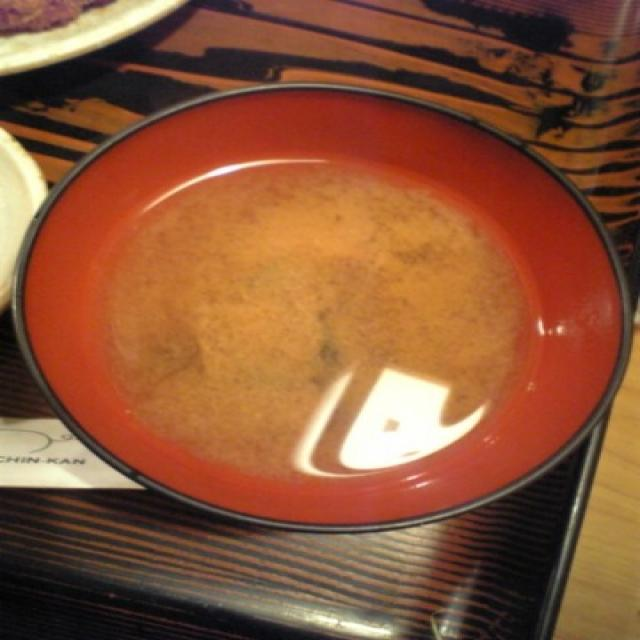汤锅炖物: (59, 129, 565, 516)
